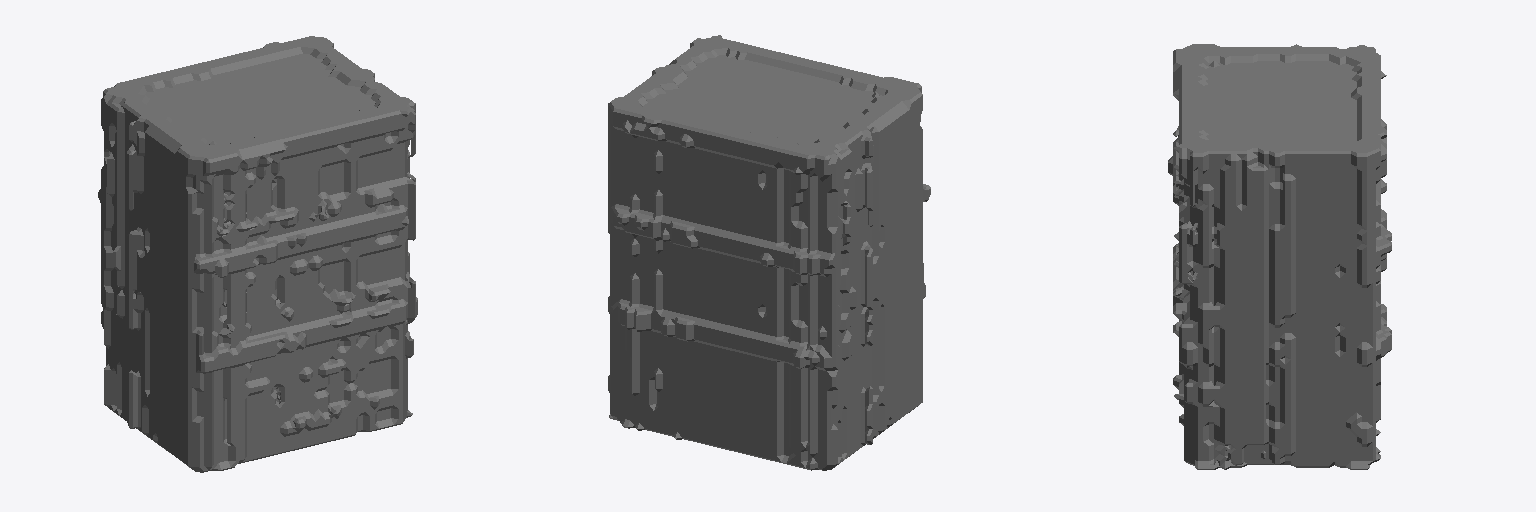
Rendered from gen6_colored.obj.
The picture shows the model from 3 angles: view 1: azimuth 30°, elevation 25°; view 2: azimuth 150°, elevation 25°; view 3: azimuth 270°, elevation 25°; orthographic projection.
Parts seen in each view (by area): view 1: gen6.obj; view 2: gen6.obj; view 3: gen6.obj.
Part boxes in pixels (x1,y1,x2,y2): gen6.obj: (98, 36, 417, 472); gen6.obj: (608, 35, 930, 470); gen6.obj: (1168, 44, 1391, 469).
Size of the model in its own units: 49 by 64 by 41.